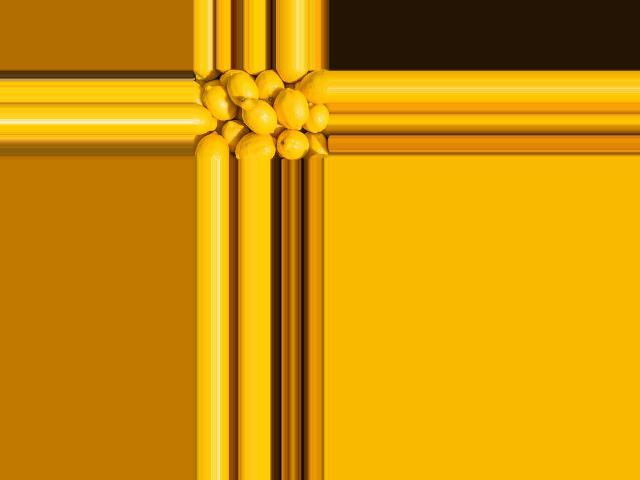lemon: (223, 70, 256, 105)
